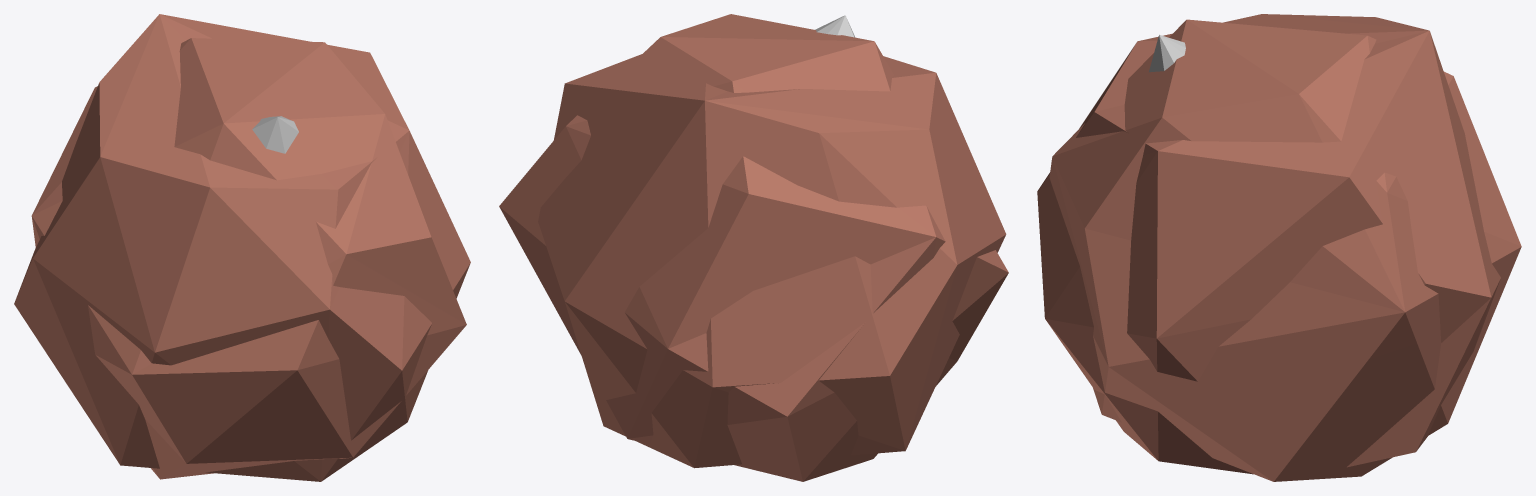
File: particles.fbx
3 renders of one model, left to right at view 1: azimuth 30°, elevation 25°; view 2: azimuth 150°, elevation 25°; view 3: azimuth 270°, elevation 25°, orthographic. The views are drawn at different scales.
Parts seen in each view (by area): view 1: Rock.001, Rock.002, Rock.003; view 2: Rock.001, Rock.002; view 3: Rock.002, Rock.001, Rock.003.
Boxes of the visible parts, bbox=[...] form: Rock.001: bbox=[14, 14, 470, 481]; Rock.002: bbox=[31, 38, 466, 479]; Rock.003: bbox=[252, 116, 298, 153]; Rock.001: bbox=[538, 54, 1006, 468]; Rock.002: bbox=[499, 14, 1008, 481]; Rock.002: bbox=[1049, 19, 1521, 481]; Rock.001: bbox=[1037, 14, 1500, 474]; Rock.003: bbox=[1149, 34, 1185, 72].
Bounding box in the file's own units: 498 × 464 × 495.
